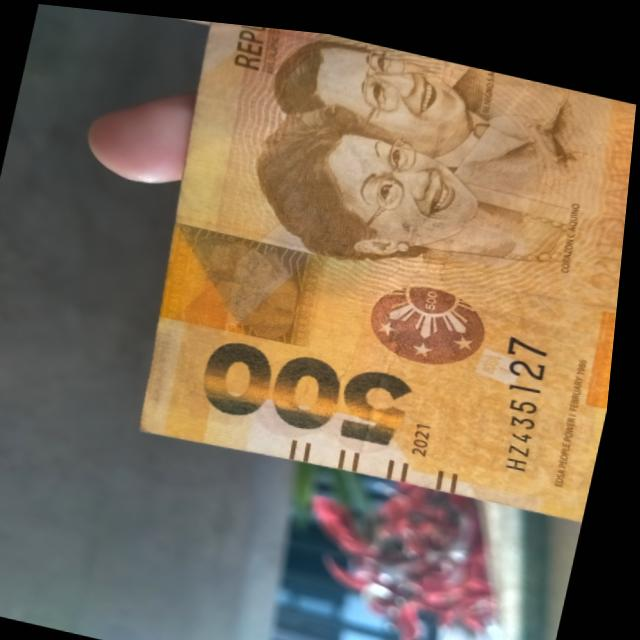concealed_value: (158, 213, 341, 348)
optically_variable_device: (341, 247, 513, 379)
serial_number: (479, 312, 568, 471)
value: (194, 319, 430, 444)
